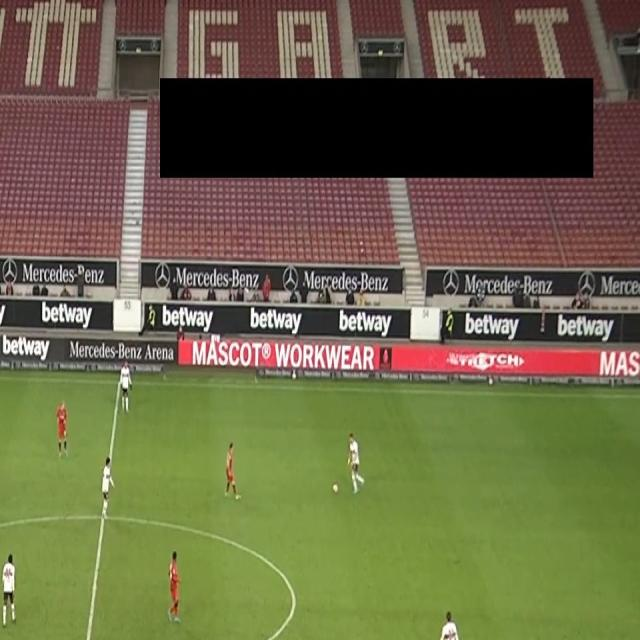ball: (332, 482, 339, 494)
